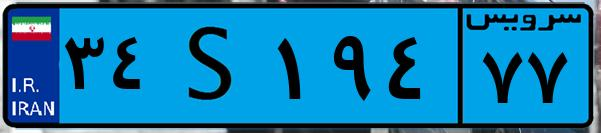1: (270, 28, 330, 110)
3: (57, 26, 110, 100)
4: (385, 28, 445, 110), (110, 28, 158, 98)
7: (475, 38, 525, 113), (525, 38, 570, 115)
9: (330, 28, 385, 110)
S: (158, 12, 270, 120)
